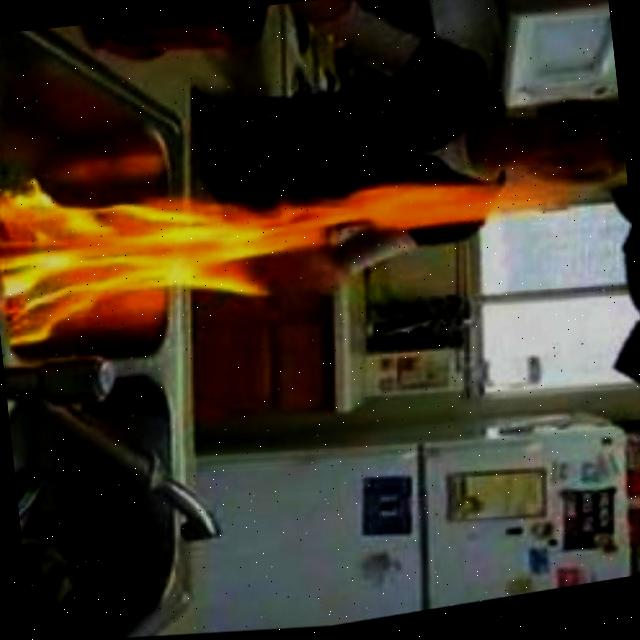fire: (0, 113, 553, 378)
